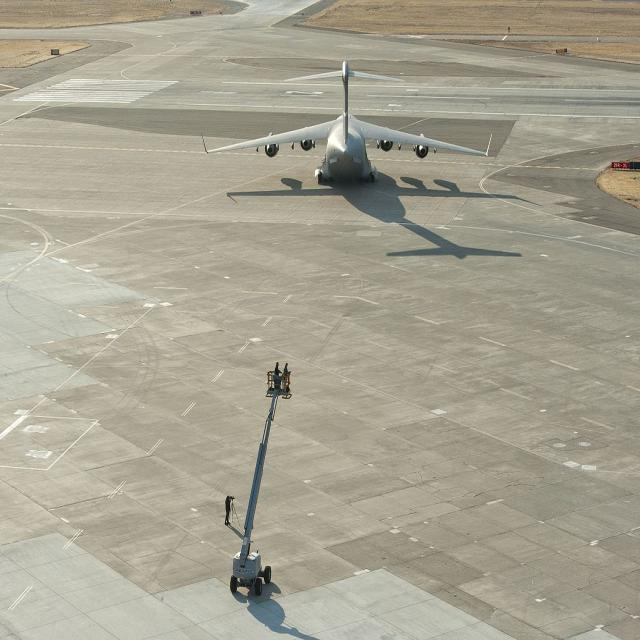MIL_Plane: (201, 59, 491, 184)
